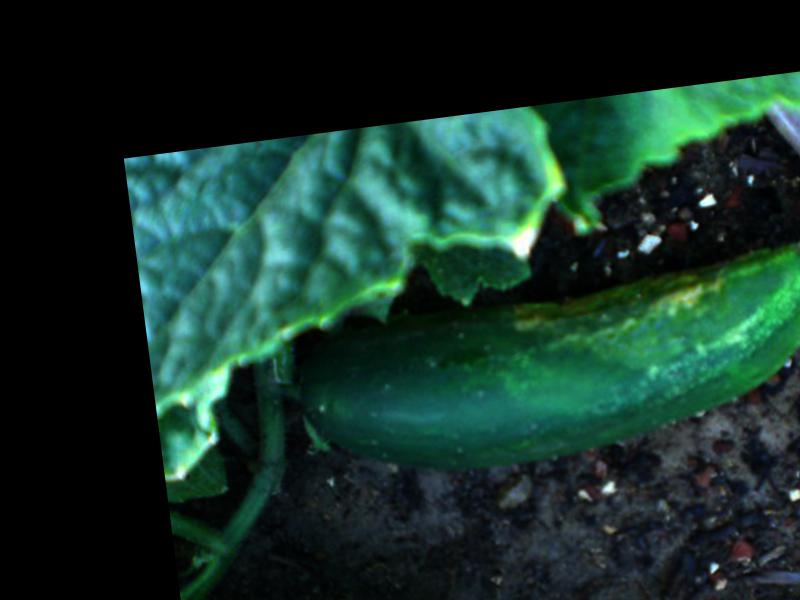Cucumber: (290, 235, 800, 488)
